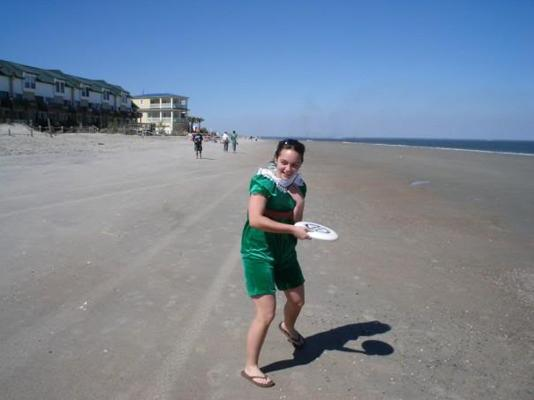person: (239, 139, 315, 387)
